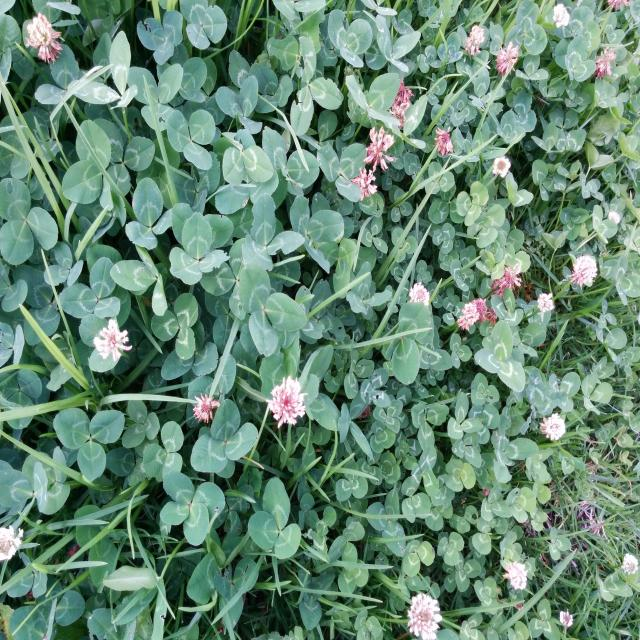Four Leaf Clover: (160, 470, 225, 546)
